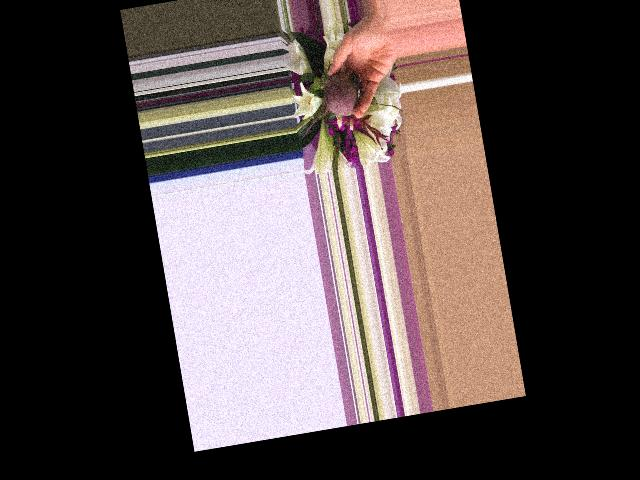beet: (290, 69, 369, 140)
